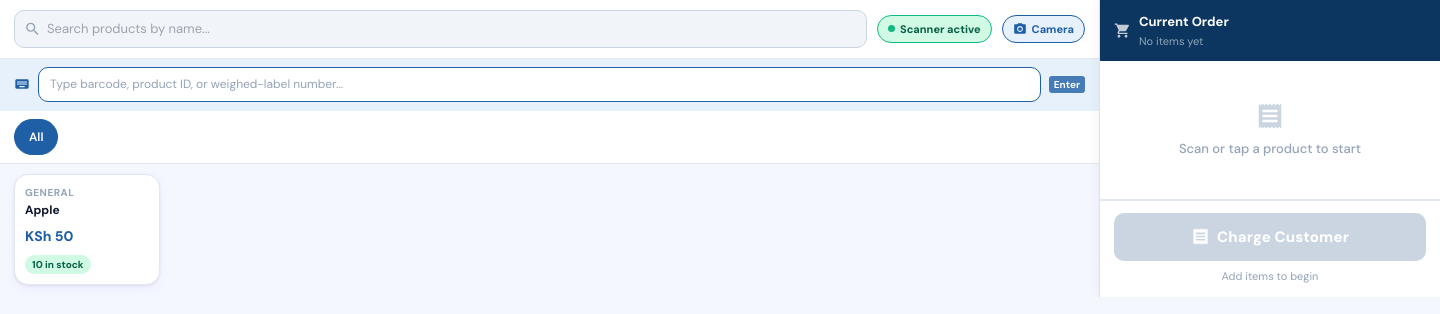
Test: manual code entry › shows matched product meta text for a normal barcode
Type "1234567890123" into the field with placeholder "Type barcode, product ID, or weighed-label number..." at coordinates (539, 84), box [38, 66, 1041, 102]
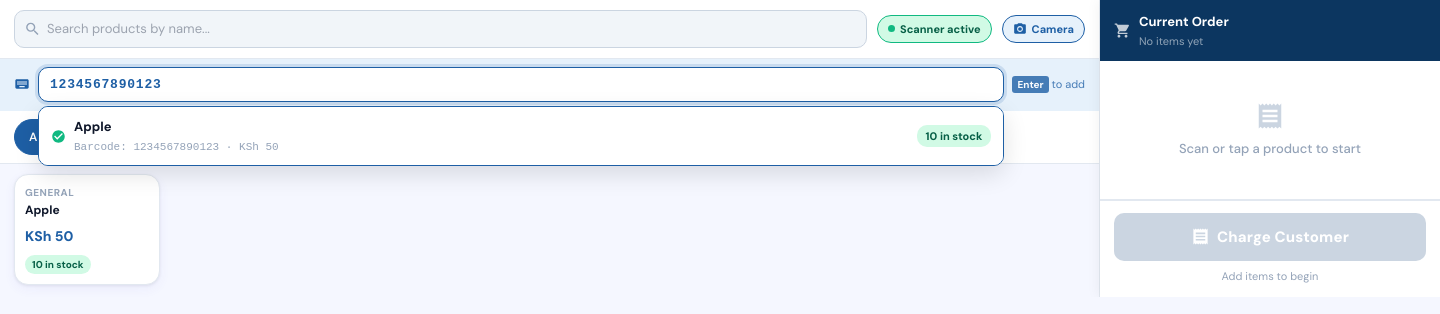
Expected: the text "Barcode: 1234567890123 · KSh 50" is shown, [74, 138, 279, 155]
